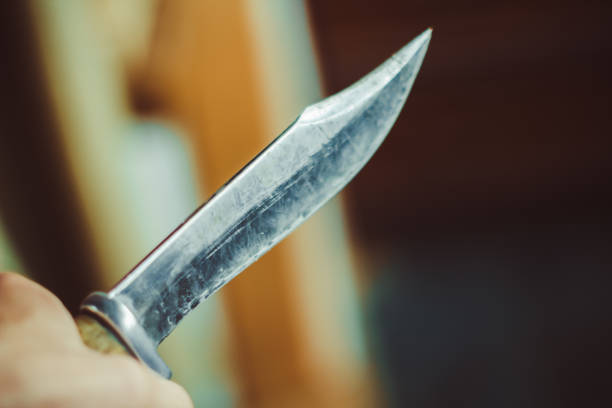knife: (73, 24, 438, 380)
